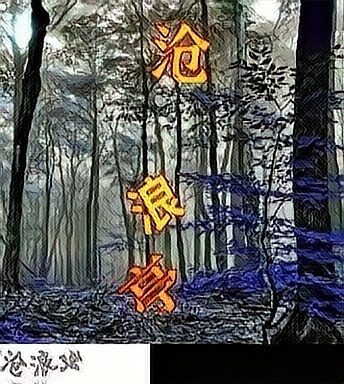B2D7: (147, 22, 212, 86)
C0CB: (121, 172, 186, 236)
CDA4: (117, 251, 182, 315)
